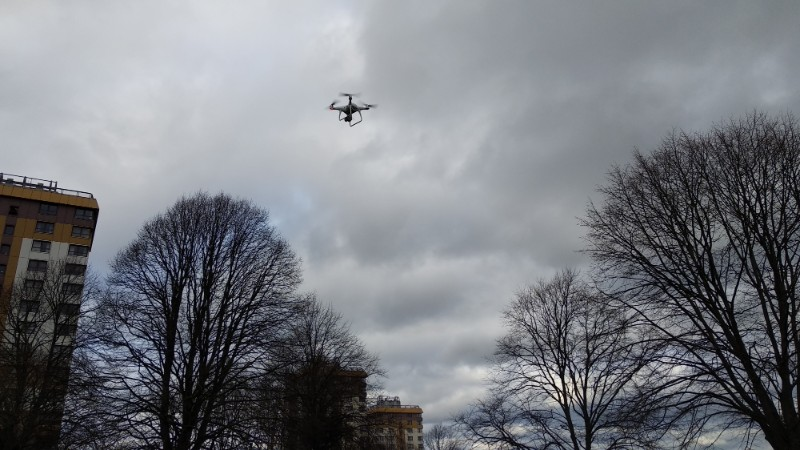drone: (326, 92, 377, 127)
